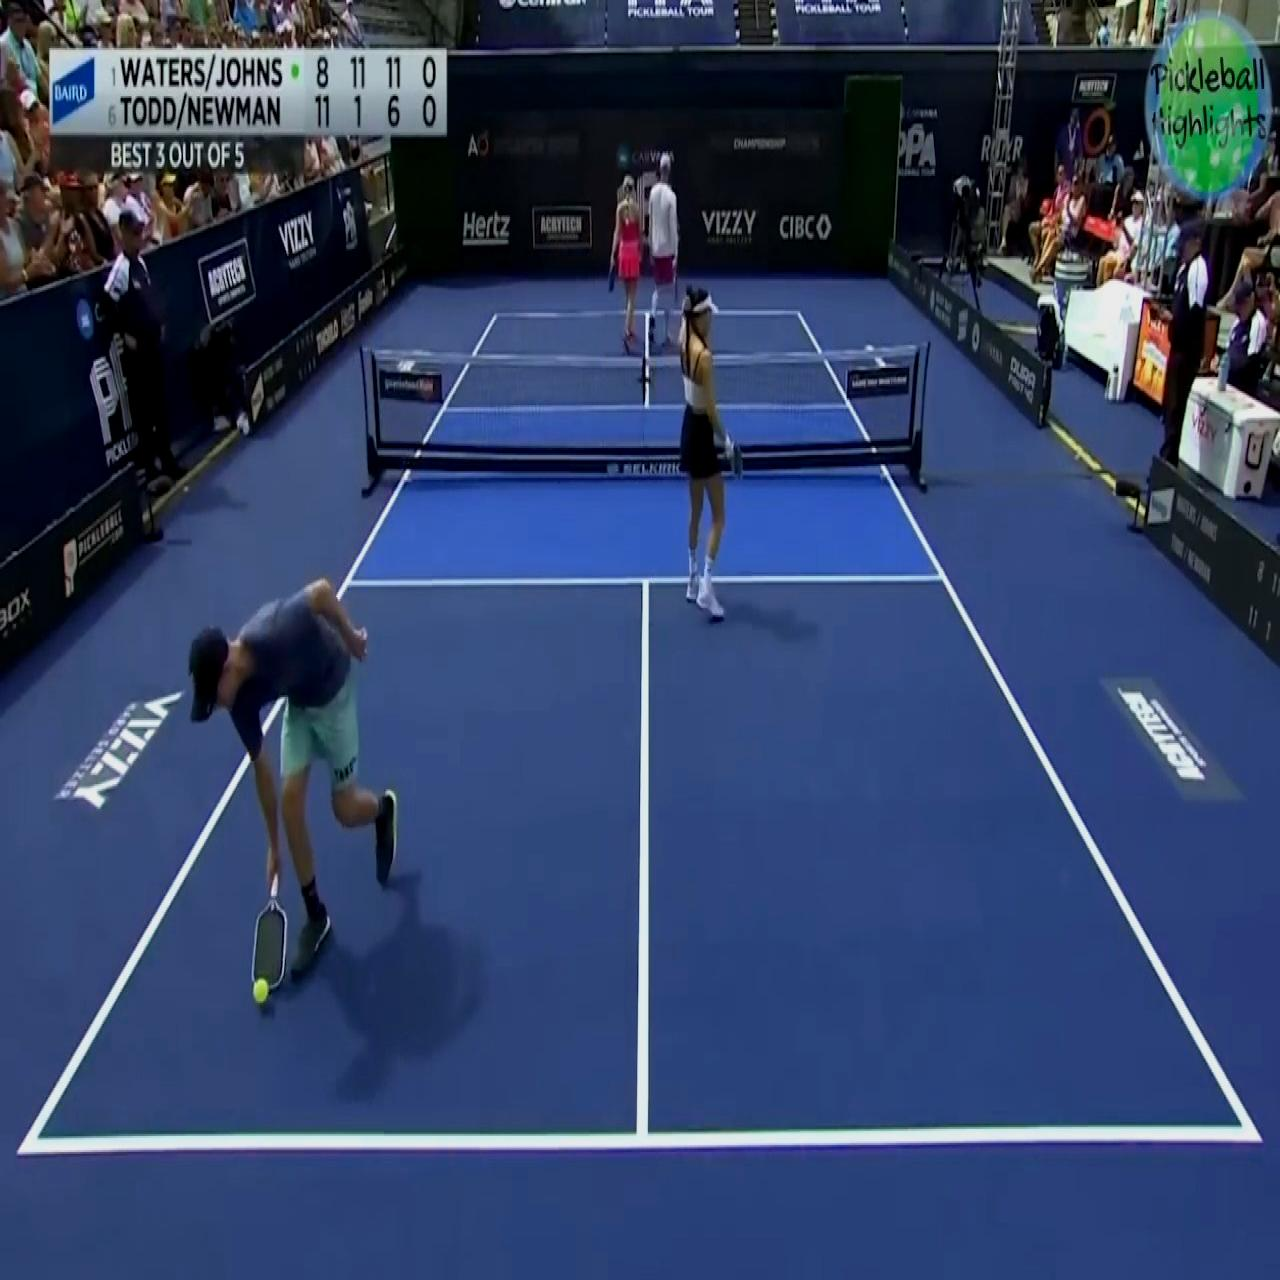Pickleball: (251, 971, 268, 1008)
